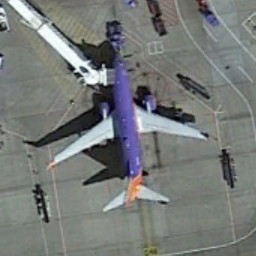Airplane: (31, 33, 220, 221)
